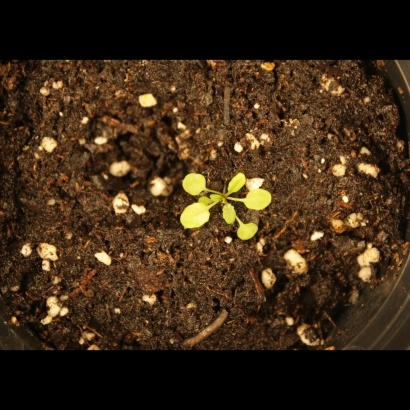leaf: (177, 202, 214, 230), (244, 186, 279, 214), (236, 218, 265, 245), (178, 170, 208, 196), (226, 166, 249, 198), (216, 200, 240, 226), (201, 188, 224, 211)
